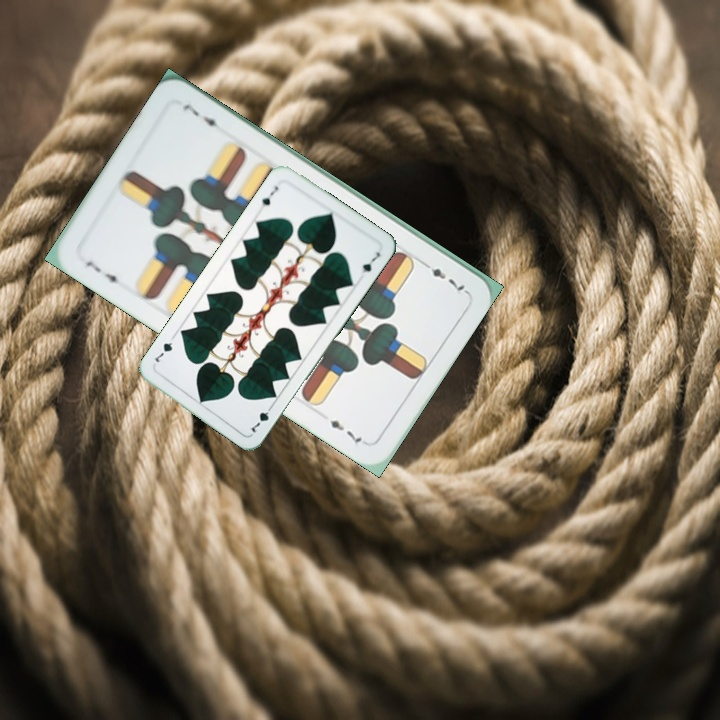E7: (417, 257, 470, 296), (81, 257, 126, 291)
G7: (247, 400, 276, 436), (257, 182, 281, 209)
